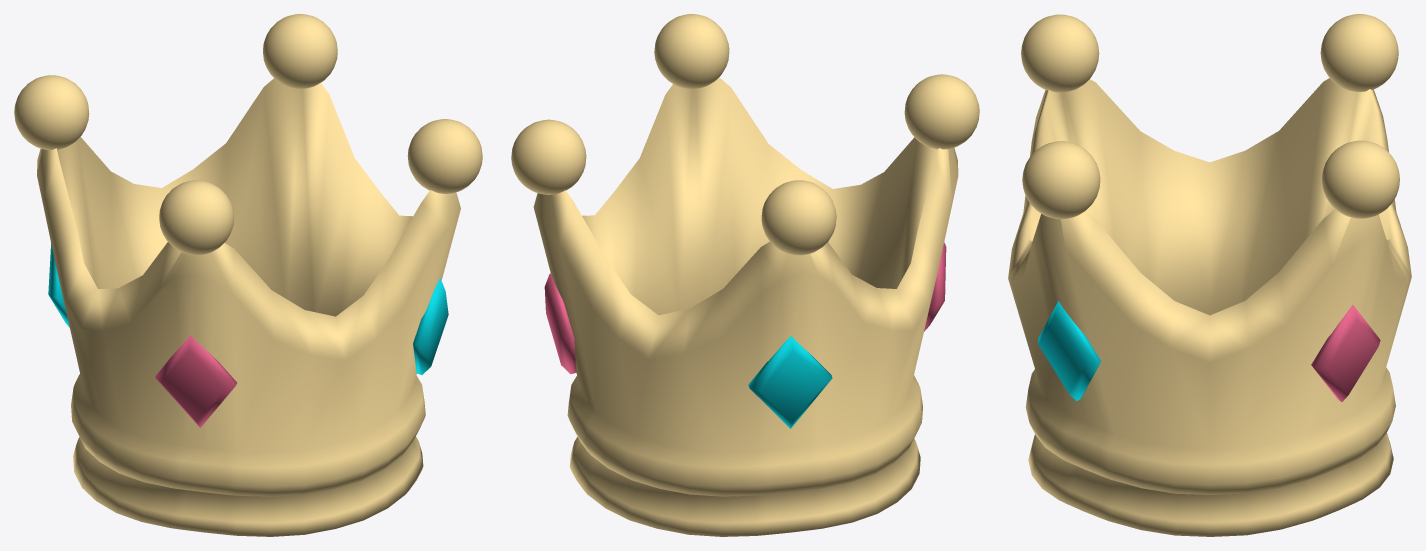
The model's file is Crown.glb.
3 renders of one model, left to right at view 1: azimuth 30°, elevation 25°; view 2: azimuth 150°, elevation 25°; view 3: azimuth 270°, elevation 25°, orthographic. The views are drawn at different scales.
Parts seen in each view (by area): view 1: Crown; view 2: Crown; view 3: Crown.
Boxes of the visible parts, left/top/right/bottom form: Crown: left=14, top=14, right=482, bottom=536; Crown: left=511, top=14, right=979, bottom=536; Crown: left=1008, top=14, right=1411, bottom=536.
Size of the model in its own units: 3.86 by 4 by 3.86.
3 materials, 1 textured.
